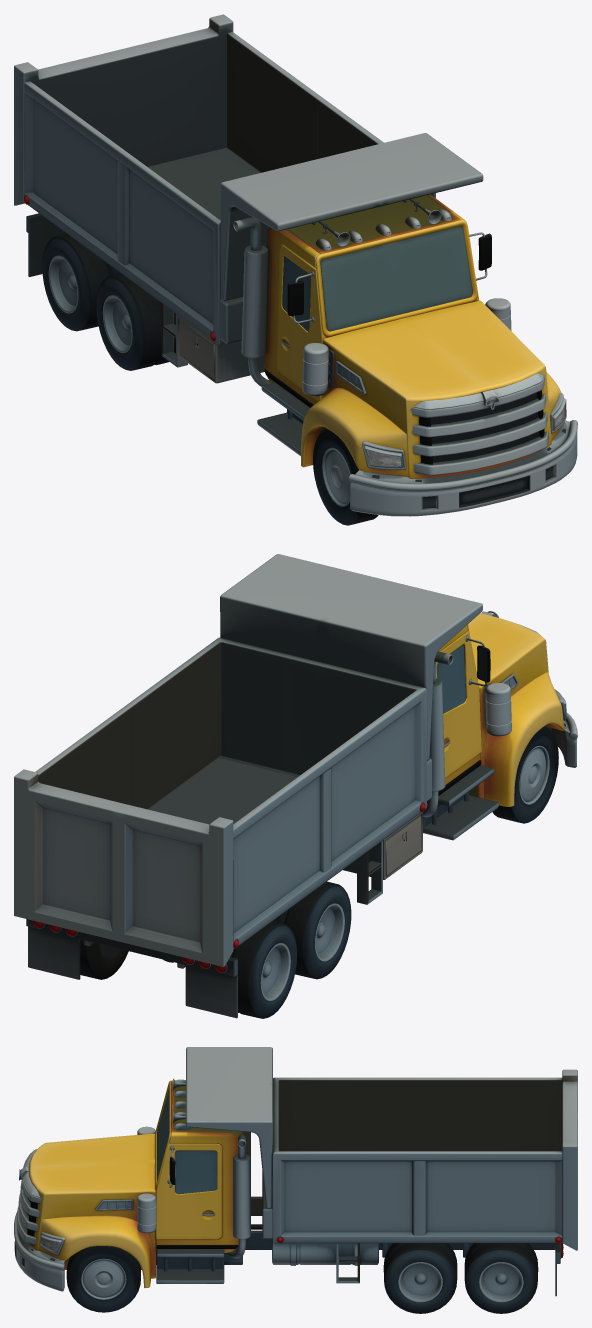
Rendered from dump_truck.glb.
The picture shows the model from 3 angles, top to bottom: view 1: azimuth 30°, elevation 25°; view 2: azimuth 150°, elevation 25°; view 3: azimuth 270°, elevation 25°; orthographic projection. The views are drawn at different scales.
Visible parts, largest first — view 1: dump_truck.1; view 2: dump_truck.1; view 3: dump_truck.1.
Boxes of the visible parts, x1,y1,x2,y2 form: dump_truck.1: [14, 14, 577, 525]; dump_truck.1: [14, 554, 577, 1018]; dump_truck.1: [14, 1047, 577, 1313].
Bounding box in the file's own units: 1.85 × 1.99 × 5.27.
Materials: 1 (1 with a texture image).
